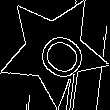O_NW: (22, 19, 86, 82)
